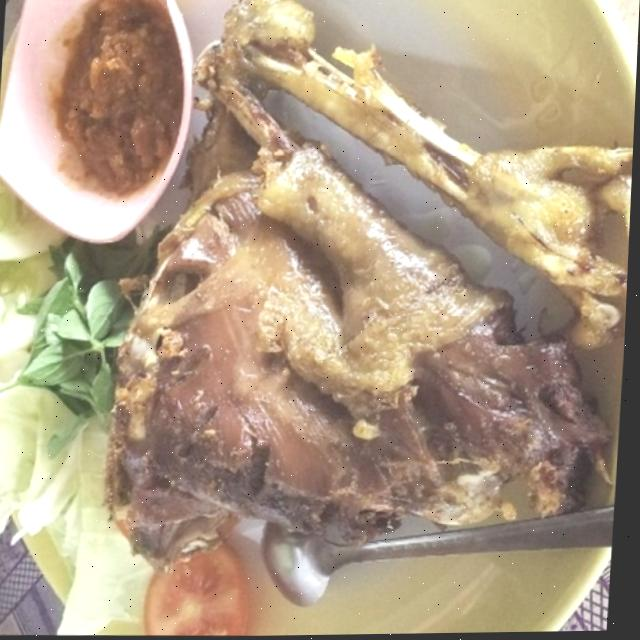鸡肉料理 含炸鸡: (116, 8, 639, 576)
